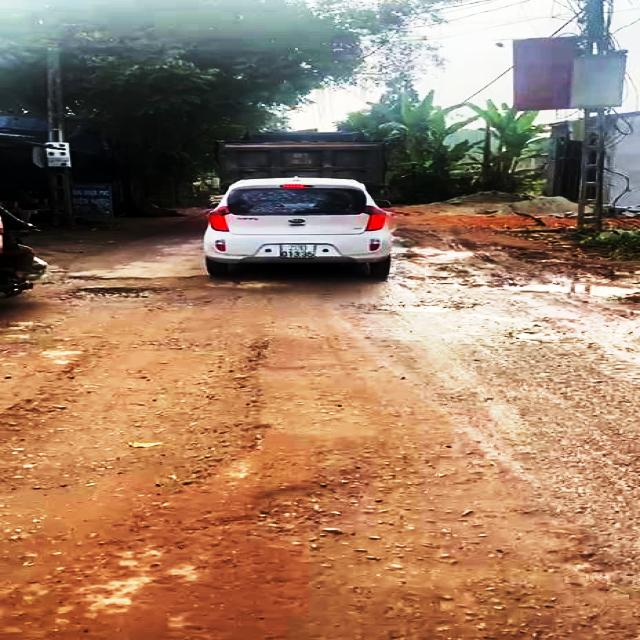pothole: (0, 341, 276, 481), (73, 285, 186, 304), (508, 325, 586, 344), (378, 301, 474, 313)
